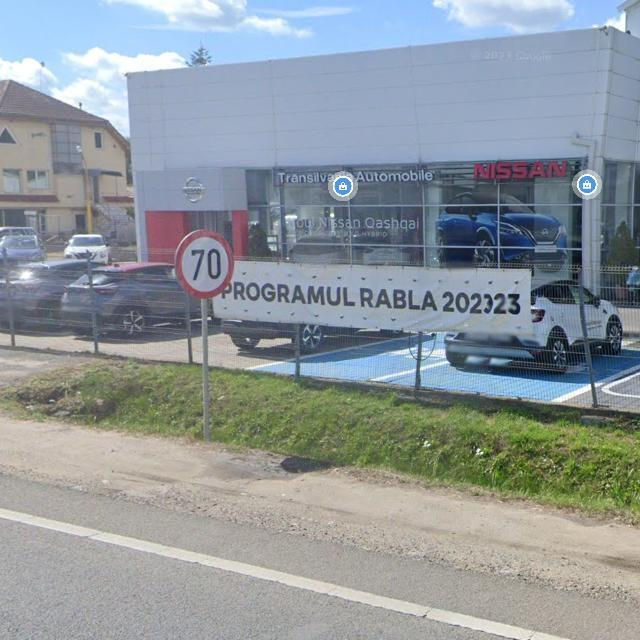forb_speed_over_70: (175, 230, 235, 298)
